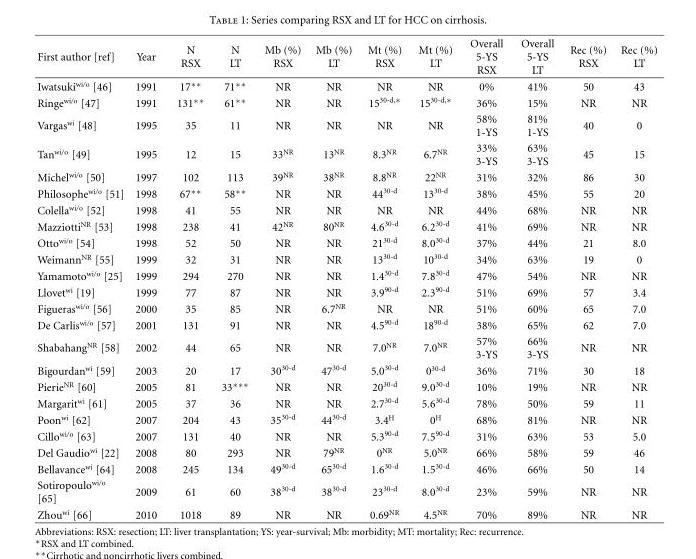table: (36, 37, 656, 520)
table column: (36, 37, 128, 520), (255, 37, 307, 520), (307, 37, 359, 520), (561, 37, 613, 520), (409, 37, 460, 520), (460, 37, 511, 520), (359, 37, 409, 520), (511, 37, 561, 520), (166, 37, 211, 520), (211, 37, 255, 520), (613, 37, 656, 520), (128, 37, 166, 520)
table column header: (36, 37, 656, 77)
table row: (36, 37, 656, 77), (36, 110, 656, 139), (36, 139, 656, 168), (36, 476, 656, 505), (36, 333, 656, 361), (36, 93, 656, 110), (36, 184, 656, 201), (36, 217, 656, 234), (36, 266, 656, 283), (36, 283, 656, 300), (36, 316, 656, 333), (36, 361, 656, 378), (36, 394, 656, 411), (36, 427, 656, 444), (36, 77, 656, 93), (36, 168, 656, 184), (36, 201, 656, 217), (36, 234, 656, 250), (36, 250, 656, 266), (36, 300, 656, 316), (36, 378, 656, 394), (36, 411, 656, 427), (36, 444, 656, 460), (36, 460, 656, 476), (36, 505, 656, 520)
